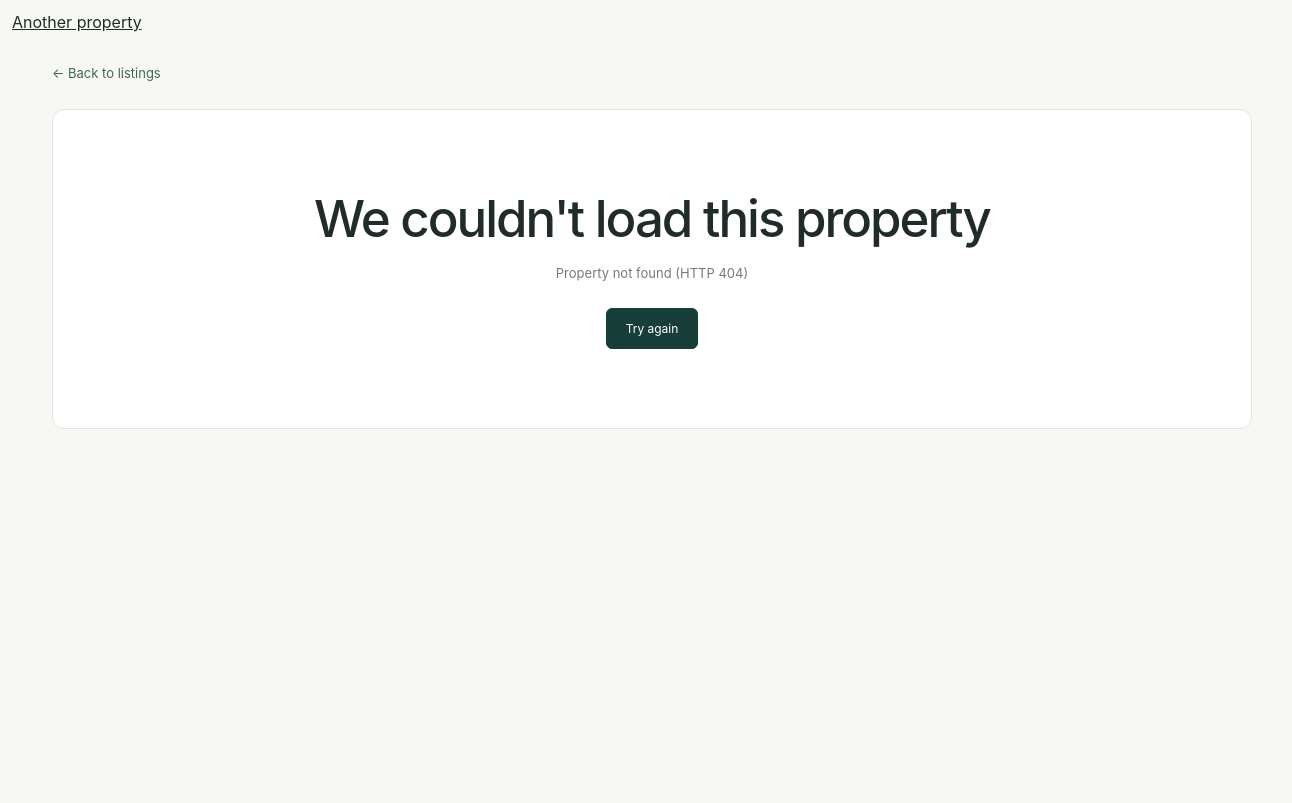
Test case: handles Property not found (HTTP 404) and retries the property independently
The image size is (1292, 803).
Check: the message shows "Property not found (HTTP 404)", box [556,265,748,281]
Click the button "Try again".
click(652, 328)  # box [606,308,698,349]
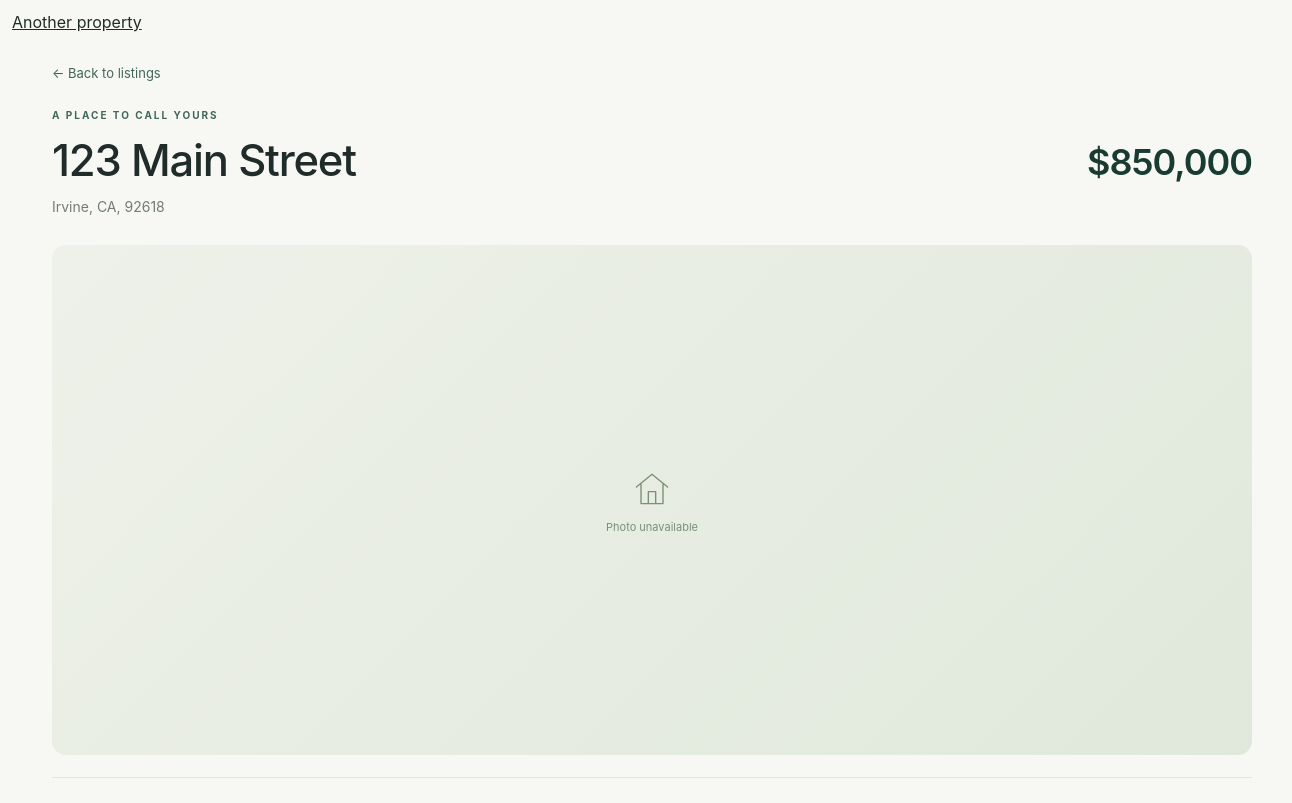
Check: the heading "123 Main Street" is shown, box [52,135,356,186]
